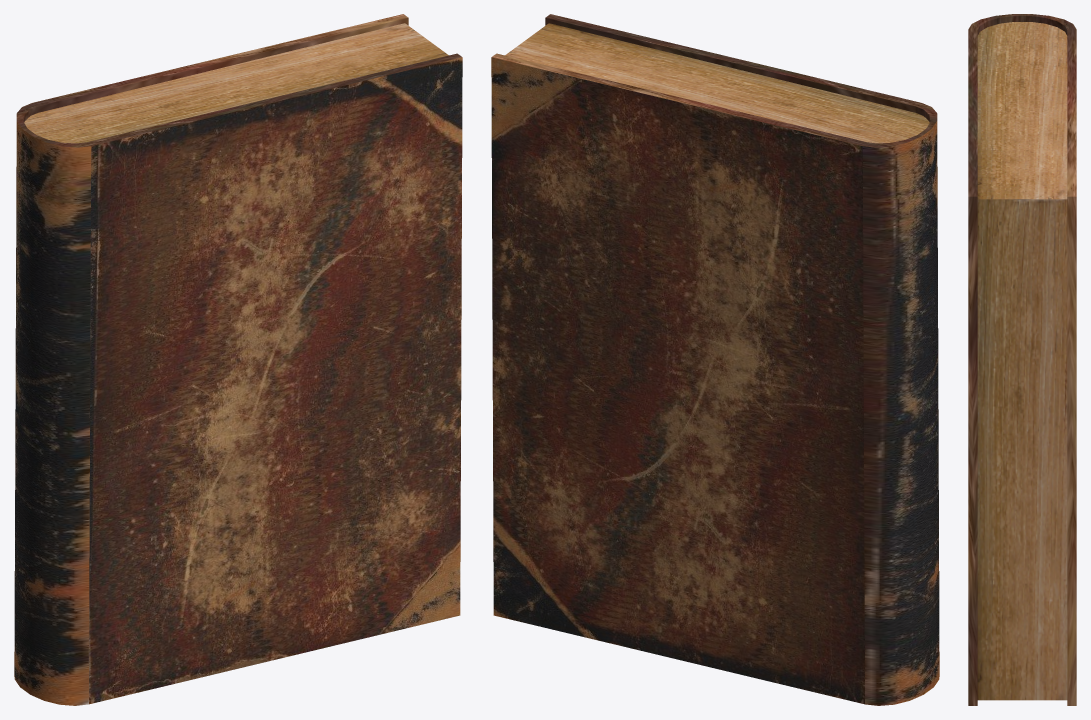
Rendered from SM_Book08.fbx.
3 renders of one model, left to right at view 1: azimuth 30°, elevation 25°; view 2: azimuth 150°, elevation 25°; view 3: azimuth 270°, elevation 25°, orthographic. The views are drawn at different scales.
Visible parts, largest first — view 1: SM_Book_HP.011; view 2: SM_Book_HP.011; view 3: SM_Book_HP.011.
Boxes of the visible parts, x1,y1,x2,y2 form: SM_Book_HP.011: [14, 14, 462, 705]; SM_Book_HP.011: [491, 14, 939, 705]; SM_Book_HP.011: [968, 14, 1076, 705].
Bounding box in the file's own units: 17.24 × 22.6 × 4.33.
2 materials, 2 textured.
